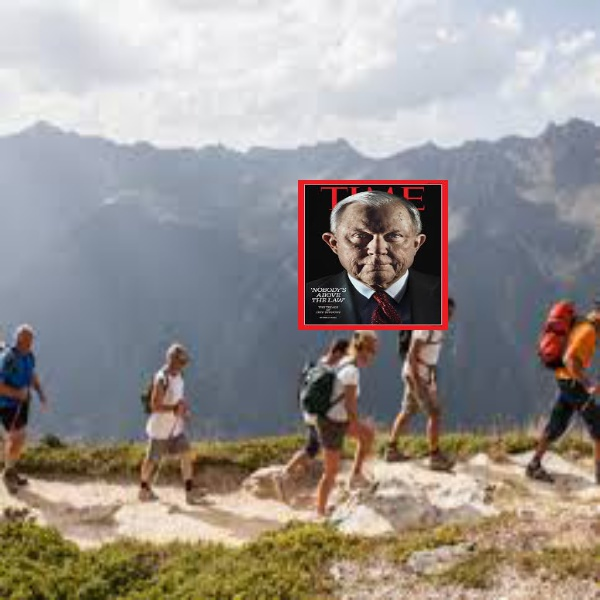time_cover: (297, 181, 447, 341)
